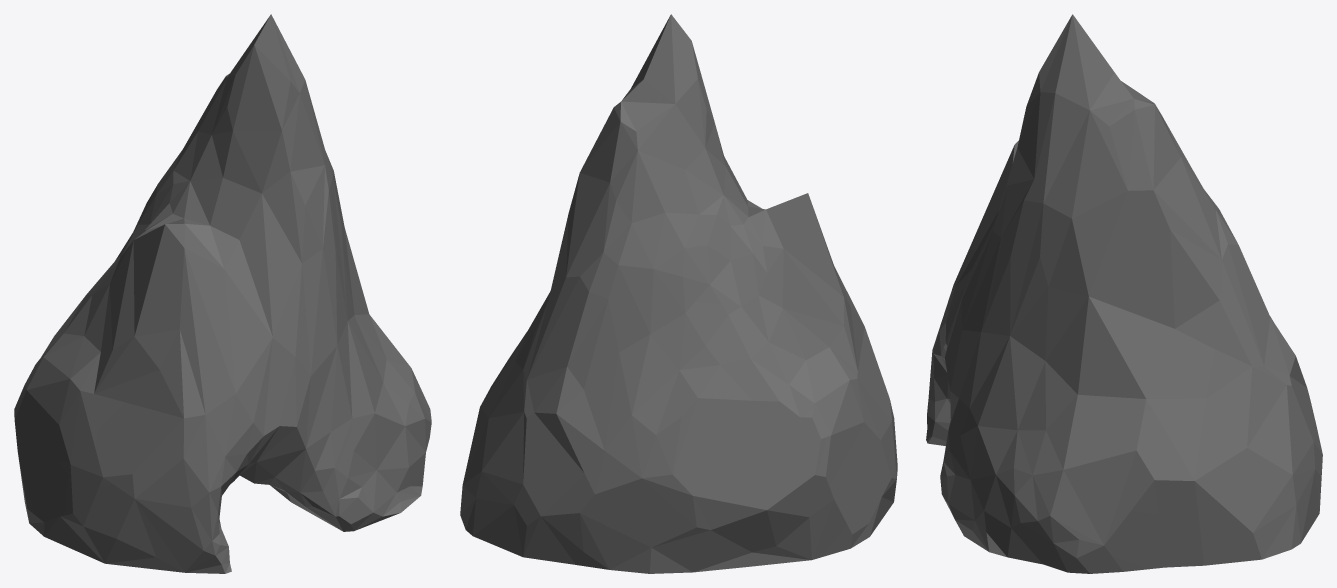
Rendered from Cave_07.fbx.
3 views of the same model, side by side, from view 1: azimuth 30°, elevation 25°; view 2: azimuth 150°, elevation 25°; view 3: azimuth 270°, elevation 25° (orthographic). The views are drawn at different scales.
Parts seen in each view (by area): view 1: Cave_07_LOD0; view 2: Cave_07_LOD0; view 3: Cave_07_LOD0.
Boxes of the visible parts, box(x1,y1,x2,y2) form: Cave_07_LOD0: box(14, 14, 431, 573); Cave_07_LOD0: box(460, 14, 897, 573); Cave_07_LOD0: box(926, 14, 1322, 573).
Size of what is drawn, in the model's own units: 11.56 by 14.2 by 10.55.
